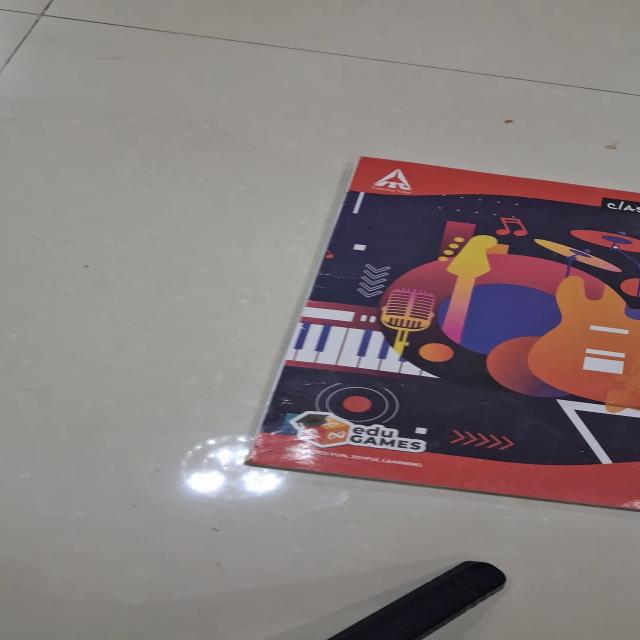paper: (243, 155, 639, 511)
